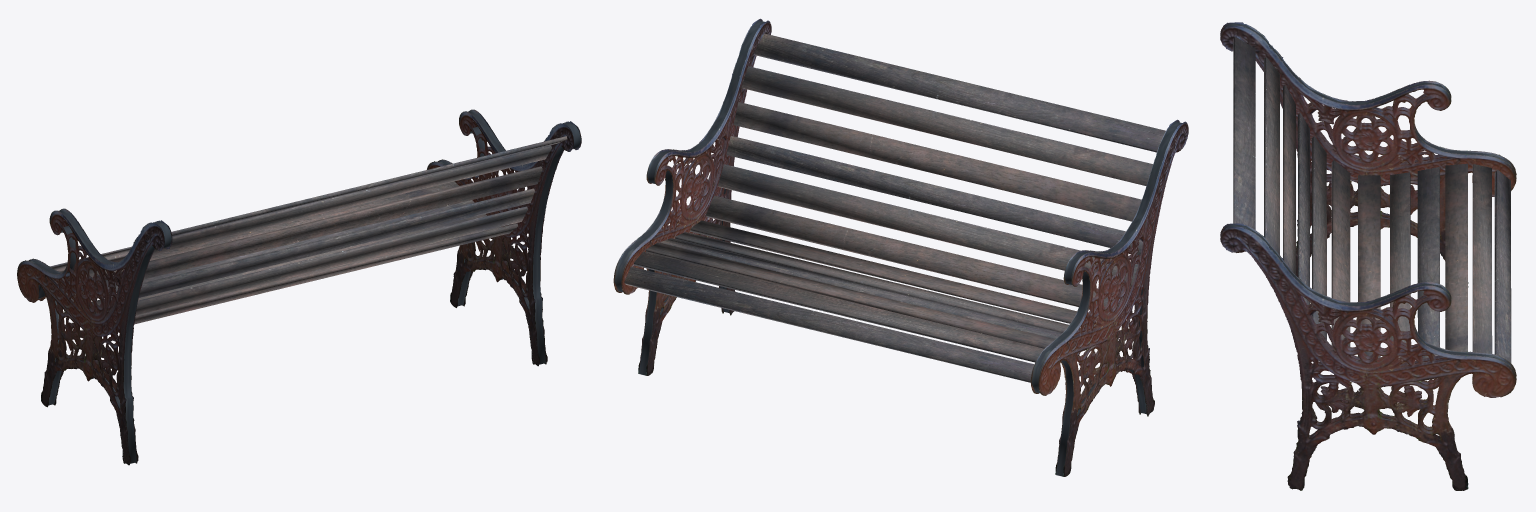
The model's file is Garden_Bench_01.fbx.
3 renders of one model, left to right at view 1: azimuth 30°, elevation 25°; view 2: azimuth 150°, elevation 25°; view 3: azimuth 270°, elevation 25°, orthographic.
Parts seen in each view (by area): view 1: garden_bench_01; view 2: garden_bench_01; view 3: garden_bench_01.
Boxes of the visible parts, x1,y1,x2,y2 form: garden_bench_01: (17,109,581,465); garden_bench_01: (613,18,1188,476); garden_bench_01: (1220,22,1516,490).
Size of the model in its own units: 2.53 by 1.62 by 1.59.
